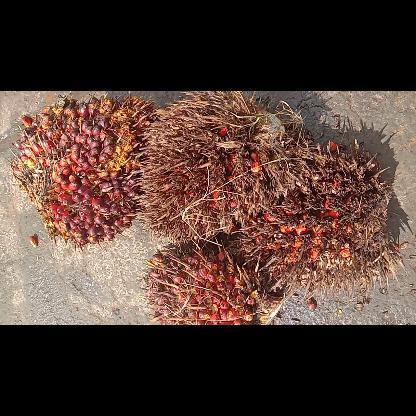TBS masak: (6, 93, 158, 250), (140, 240, 286, 324)
Terlalu masak: (226, 140, 406, 302), (131, 90, 302, 244)
